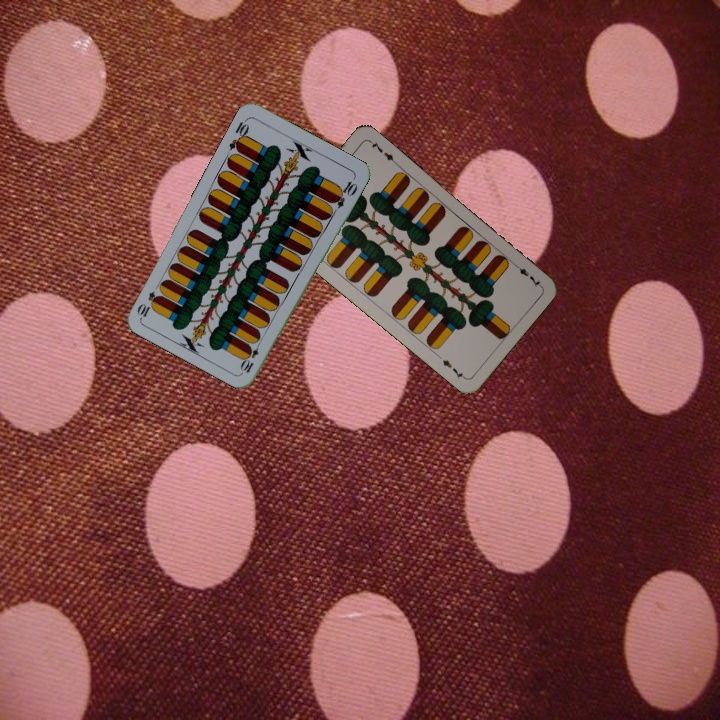E10: (225, 115, 252, 155), (238, 336, 264, 375)
E7: (509, 259, 543, 290)
